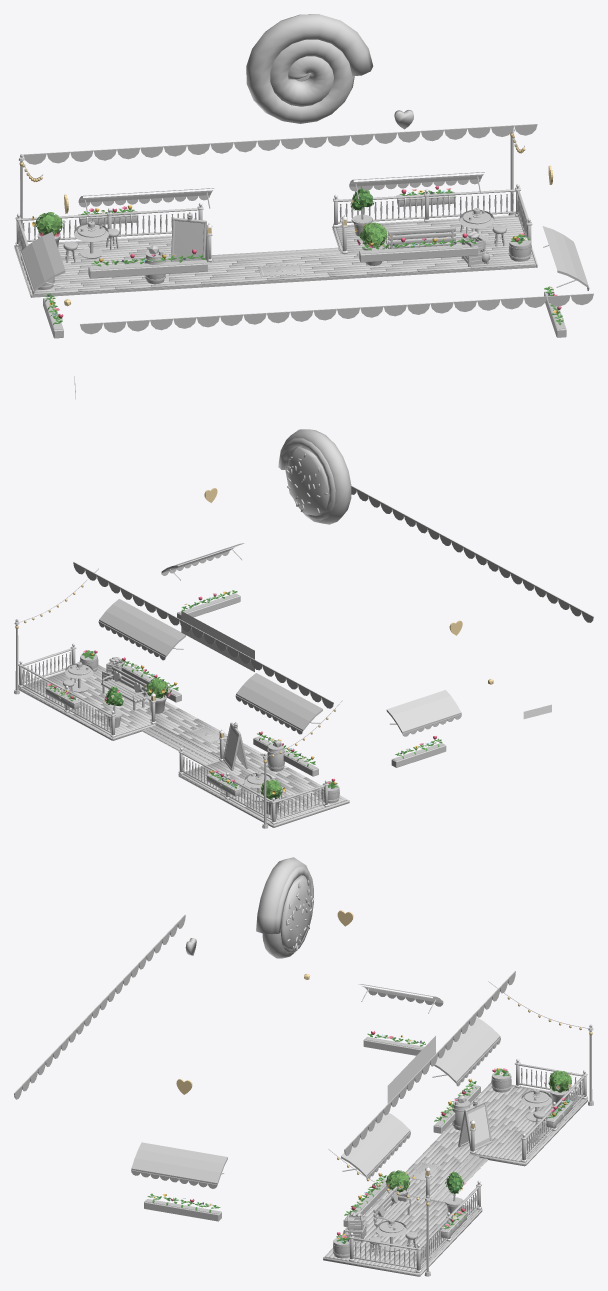
The model's file is zon_bakery.glb.
3 views of the same model, one above another, from view 1: azimuth 30°, elevation 25°; view 2: azimuth 150°, elevation 25°; view 3: azimuth 270°, elevation 25° (orthographic). The views are drawn at different scales.
Visible parts, largest first — view 1: SM_zon_bakery_kit_bakery_xm1_z1_LOD0, SM_bld_bakery_roll_body__0, SM_zon_bakery_vc_palette_xm1_z1_LOD0, SM_zon_bakery_kit_bakery_gloss_xm1_z1; view 2: SM_zon_bakery_kit_bakery_xm1_z1_LOD0, SM_bld_bakery_roll_body__0, SM_zon_bakery_vc_palette_xm1_z1_LOD0, SCREEN_bld_bakery_shell_sign__0, SM_zon_bakery_kit_bakery_gloss_xm1_z1, SM_zon_bakery_glow_vc_xm1_z1_LOD0; view 3: SM_zon_bakery_kit_bakery_xm1_z1_LOD0, SM_bld_bakery_roll_body__0, SM_zon_bakery_vc_palette_xm1_z1_LOD0, SCREEN_bld_bakery_shell_sign__0, SM_zon_bakery_kit_bakery_gloss_xm1_z1, SM_zon_bakery_glow_vc_xm1_z1_LOD0.
Boxes of the visible parts, x1,y1,x2,y2 form: SM_zon_bakery_kit_bakery_xm1_z1_LOD0: (14,124,593,338); SM_bld_bakery_roll_body__0: (246,14,373,123); SM_zon_bakery_vc_palette_xm1_z1_LOD0: (31,186,563,325); SM_zon_bakery_kit_bakery_gloss_xm1_z1: (14,184,537,295); SM_zon_bakery_kit_bakery_xm1_z1_LOD0: (14,485,593,828); SM_bld_bakery_roll_body__0: (278,429,351,524); SM_zon_bakery_vc_palette_xm1_z1_LOD0: (48,590,442,799); SCREEN_bld_bakery_shell_sign__0: (181,611,254,671); SM_zon_bakery_kit_bakery_gloss_xm1_z1: (18,643,349,825); SM_zon_bakery_glow_vc_xm1_z1_LOD0: (15,488,493,763); SM_zon_bakery_kit_bakery_xm1_z1_LOD0: (14,914,593,1276); SM_bld_bakery_roll_body__0: (256,857,314,958); SM_zon_bakery_vc_palette_xm1_z1_LOD0: (147,1031,573,1243); SCREEN_bld_bakery_shell_sign__0: (387,1036,435,1103); SM_zon_bakery_kit_bakery_gloss_xm1_z1: (323,1059,587,1274); SM_zon_bakery_glow_vc_xm1_z1_LOD0: (176,910,592,1205).
Bounding box in the file's own units: 19.44 × 10.68 × 19.32.
